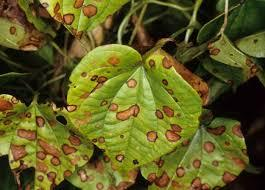leaf_spot: (0, 54, 258, 189), (2, 0, 121, 50)
